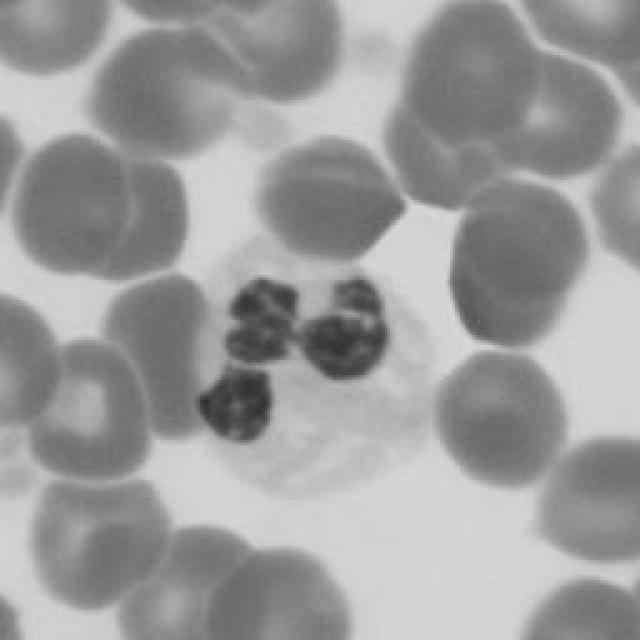RBC: (91, 31, 246, 159), (30, 476, 172, 606), (436, 352, 569, 488), (30, 338, 158, 478), (12, 127, 132, 275), (104, 278, 211, 442), (115, 527, 270, 640), (256, 139, 399, 259), (171, 5, 339, 105), (409, 5, 529, 143), (385, 96, 523, 212), (498, 59, 622, 179), (468, 181, 582, 311), (74, 156, 188, 279), (450, 229, 565, 346), (208, 547, 351, 640), (540, 444, 640, 568), (0, 2, 115, 78), (0, 292, 60, 428), (521, 575, 634, 640), (592, 148, 640, 274), (537, 0, 640, 55)
WBC: (199, 240, 436, 508)
